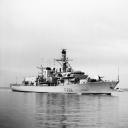Fragata: (9, 49, 122, 97)
